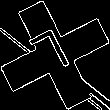L_SE: (30, 25, 80, 85)
